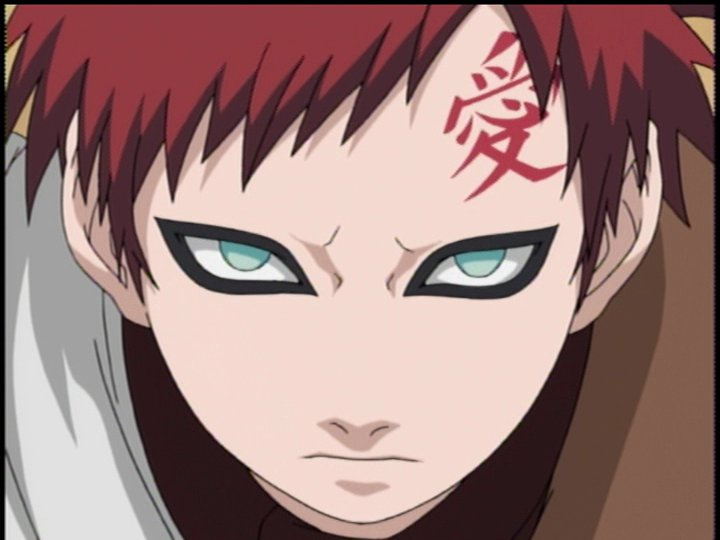gaara: (55, 8, 661, 527)
